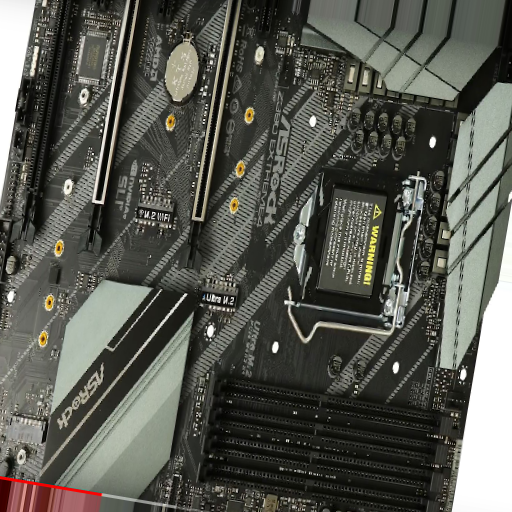CPU: (291, 167, 413, 318)
GPU: (176, 1, 241, 270), (76, 1, 142, 254), (10, 2, 77, 245)
MOTHERBOARD: (3, 1, 510, 512)
RAM: (196, 367, 453, 510)
SSD: (199, 274, 242, 320), (133, 193, 176, 233), (5, 411, 50, 446)
